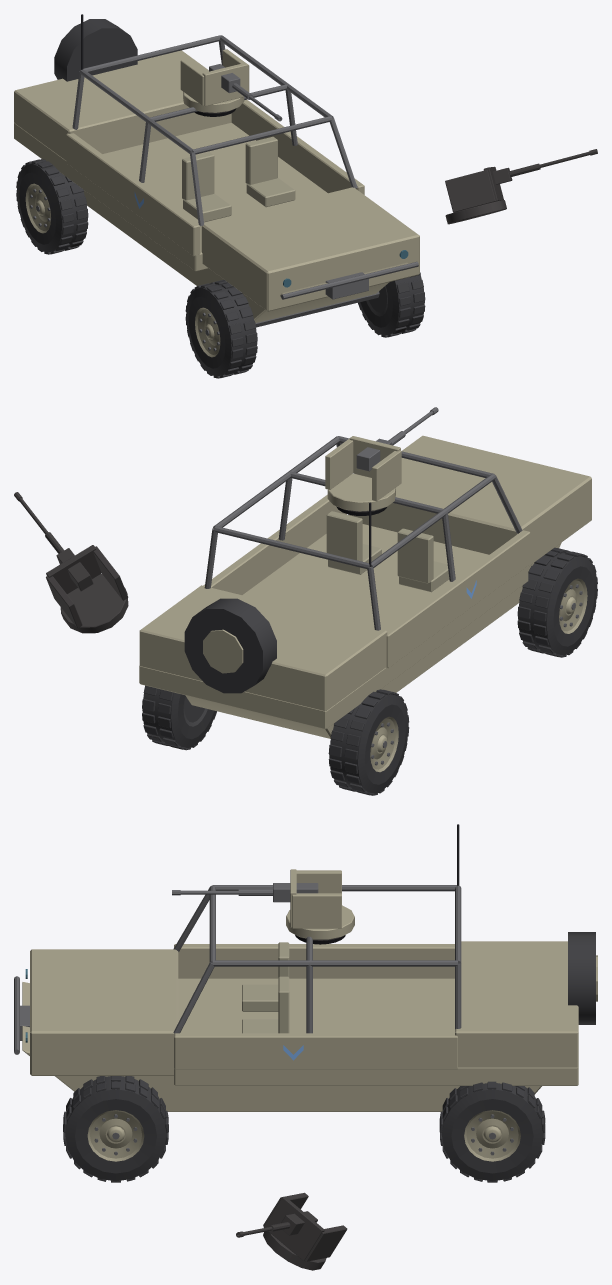
Rendered from reconVehicle__flyer72_beeri.glb.
3 views of the same model, one above another, from view 1: azimuth 30°, elevation 25°; view 2: azimuth 150°, elevation 25°; view 3: azimuth 270°, elevation 25° (orthographic). The views are drawn at different scales.
Visible parts, largest first — view 1: Hull_Mesh, Wheel_L1_Mesh, Wheel_L0_Mesh, Wreck, Wheel_R1_Mesh, Turret_Mesh, Gun_Mesh; view 2: Hull_Mesh, Wheel_L1_Mesh, Wheel_L0_Mesh, Wreck, Turret_Mesh, Wheel_R0_Mesh, Gun_Mesh; view 3: Hull_Mesh, Wheel_R1_Mesh, Wheel_R0_Mesh, Wreck, Turret_Mesh, Gun_Mesh.
Boxes of the visible parts, x1=… form: Hull_Mesh: x1=14, y1=14, x2=419, y2=327; Wheel_L1_Mesh: x1=185, y1=280, x2=257, y2=378; Wheel_L0_Mesh: x1=16, y1=159, x2=88, y2=254; Wreck: x1=31, y1=108, x2=597, y2=377; Wheel_R1_Mesh: x1=358, y1=272, x2=425, y2=337; Turret_Mesh: x1=180, y1=49, x2=249, y2=112; Gun_Mesh: x1=209, y1=64, x2=282, y2=121; Hull_Mesh: x1=139, y1=435, x2=591, y2=738; Wheel_L1_Mesh: x1=517, y1=547, x2=597, y2=657; Wheel_L0_Mesh: x1=328, y1=689, x2=409, y2=795; Wreck: x1=14, y1=492, x2=586, y2=776; Turret_Mesh: x1=325, y1=436, x2=401, y2=511; Wheel_R0_Mesh: x1=142, y1=685, x2=216, y2=749; Gun_Mesh: x1=356, y1=407, x2=438, y2=471; Hull_Mesh: x1=14, y1=824, x2=597, y2=1111; Wheel_R1_Mesh: x1=63, y1=1076, x2=168, y2=1182; Wheel_R0_Mesh: x1=439, y1=1081, x2=545, y2=1182; Wreck: x1=147, y1=935, x2=347, y2=1270; Turret_Mesh: x1=286, y1=869, x2=354, y2=939; Gun_Mesh: x1=172, y1=883, x2=318, y2=902.
Size of what is drawn, in the model's own units: 5.33 by 2.75 by 5.43.
